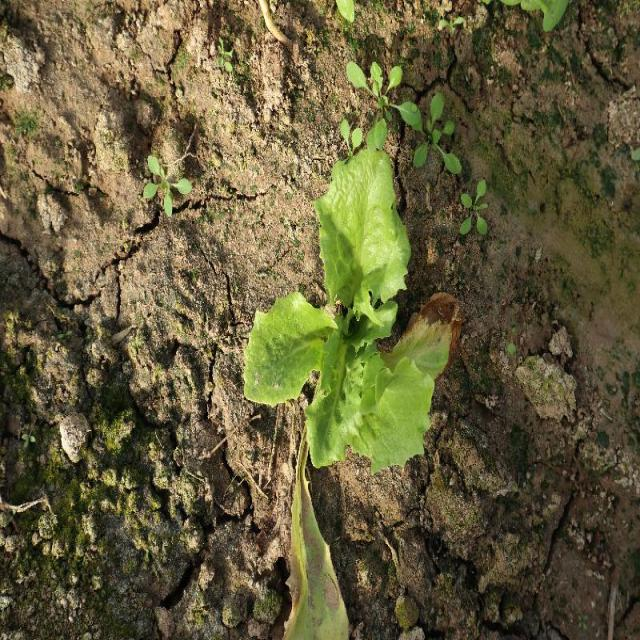crop: (241, 144, 453, 480)
